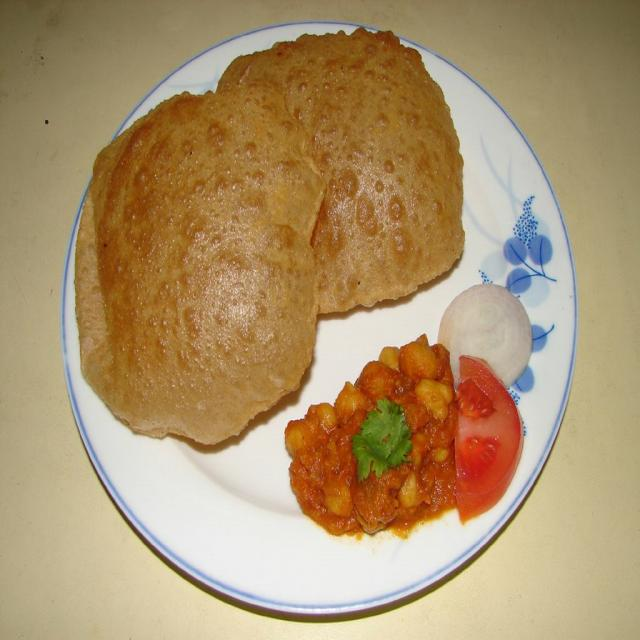Chole: (284, 335, 458, 537)
